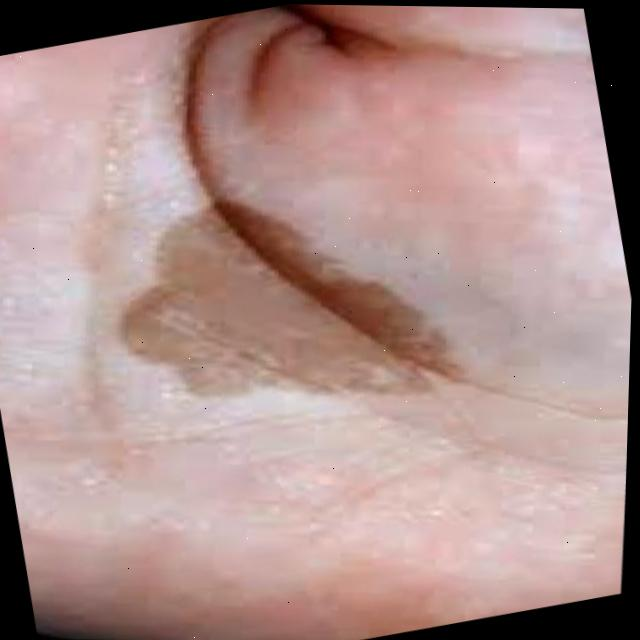Eczema: (144, 188, 444, 417)
